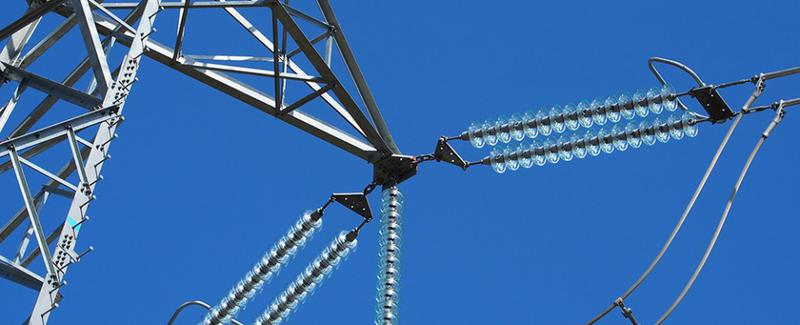isolator: (468, 83, 699, 174), (199, 209, 358, 325), (373, 187, 405, 325)
